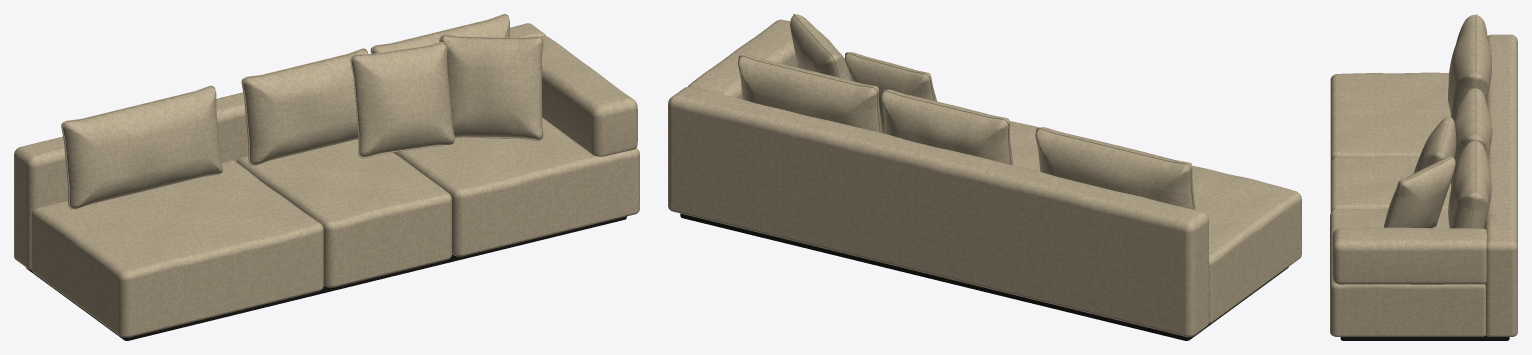
Rendered from straight.glb.
The picture shows the model from 3 angles, left to right: view 1: azimuth 30°, elevation 25°; view 2: azimuth 150°, elevation 25°; view 3: azimuth 270°, elevation 25°; orthographic projection. The views are drawn at different scales.
Visible parts, largest first — view 1: fabric (×2), pillows (×2), trim; view 2: fabric (×2), pillows, trim; view 3: fabric (×2), pillows (×2), trim.
Part boxes in pixels (x1,y1,x2,y2): fabric (×2): [14, 14, 639, 337]; pillows (×2): [350, 34, 543, 158]; trim: [26, 216, 626, 340]; fabric (×2): [668, 19, 1301, 337]; pillows: [790, 14, 937, 133]; trim: [680, 213, 1288, 340]; fabric (×2): [1330, 14, 1517, 336]; pillows (×2): [1383, 116, 1456, 228]; trim: [1340, 335, 1509, 340].
Bounding box in the file's own units: 3 × 0.9233 × 1.12.
Materials: 3 (3 with a texture image).
